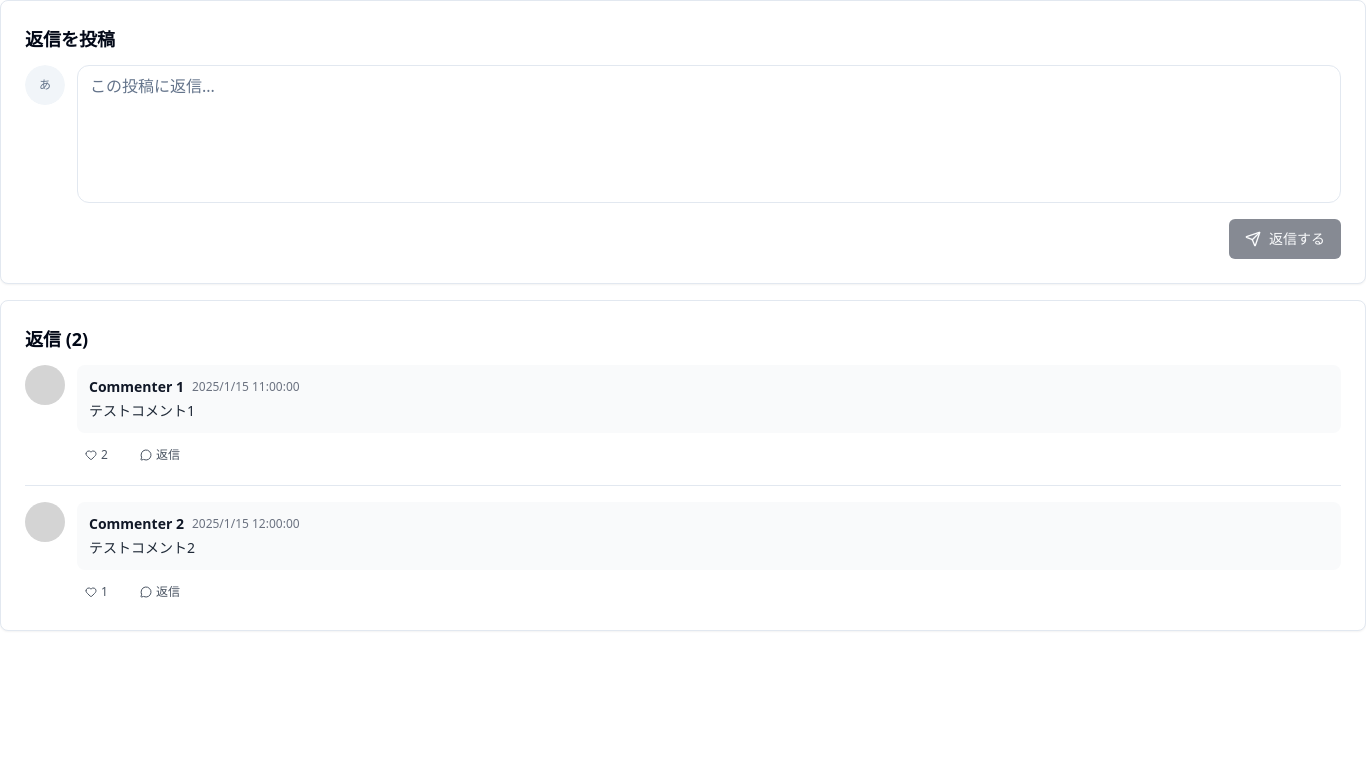
Test: ReplySection › shows optimistic update for new reply
Type "新しいコメント" into the text box with placeholder "この投稿に返信..." at {"x": 709, "y": 134}, box [77, 65, 1341, 203]
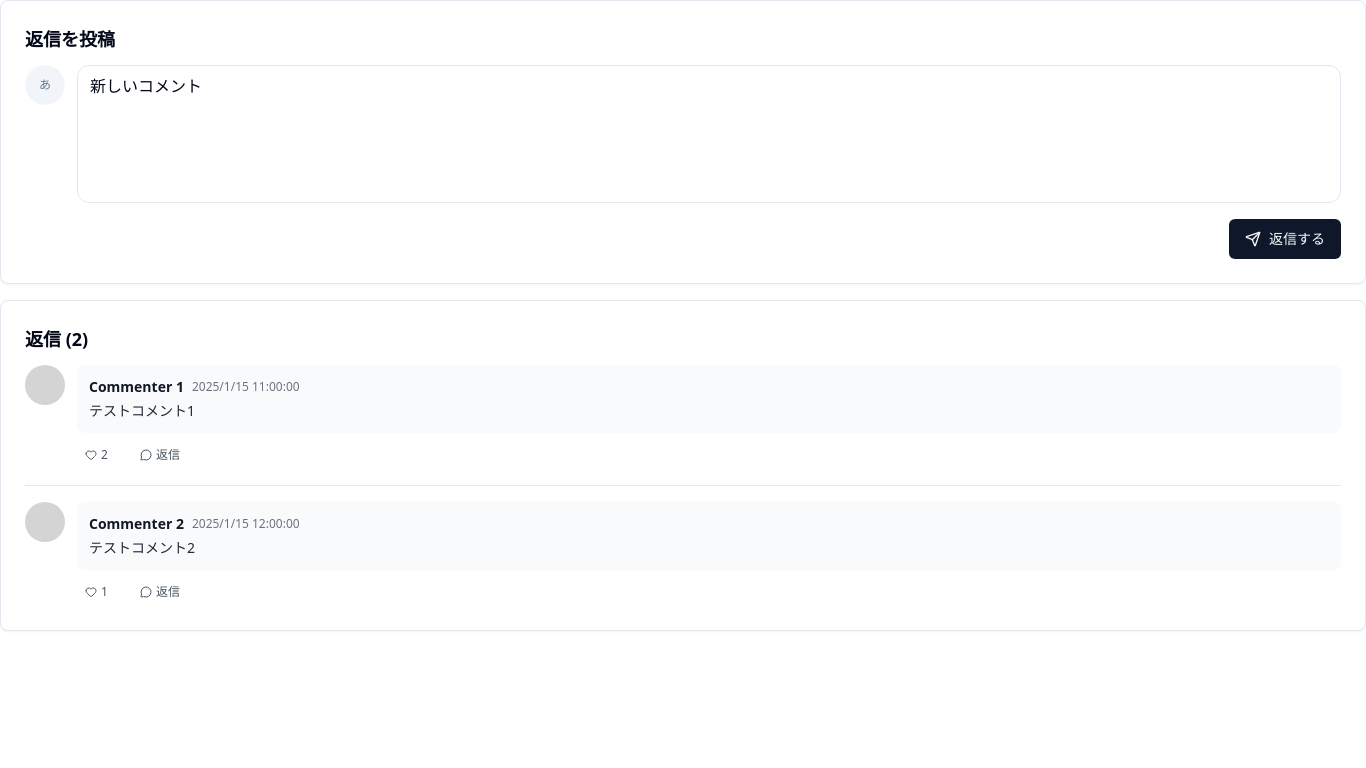
Click the button "返信する" at {"x": 1285, "y": 239}, box [1229, 219, 1341, 259]
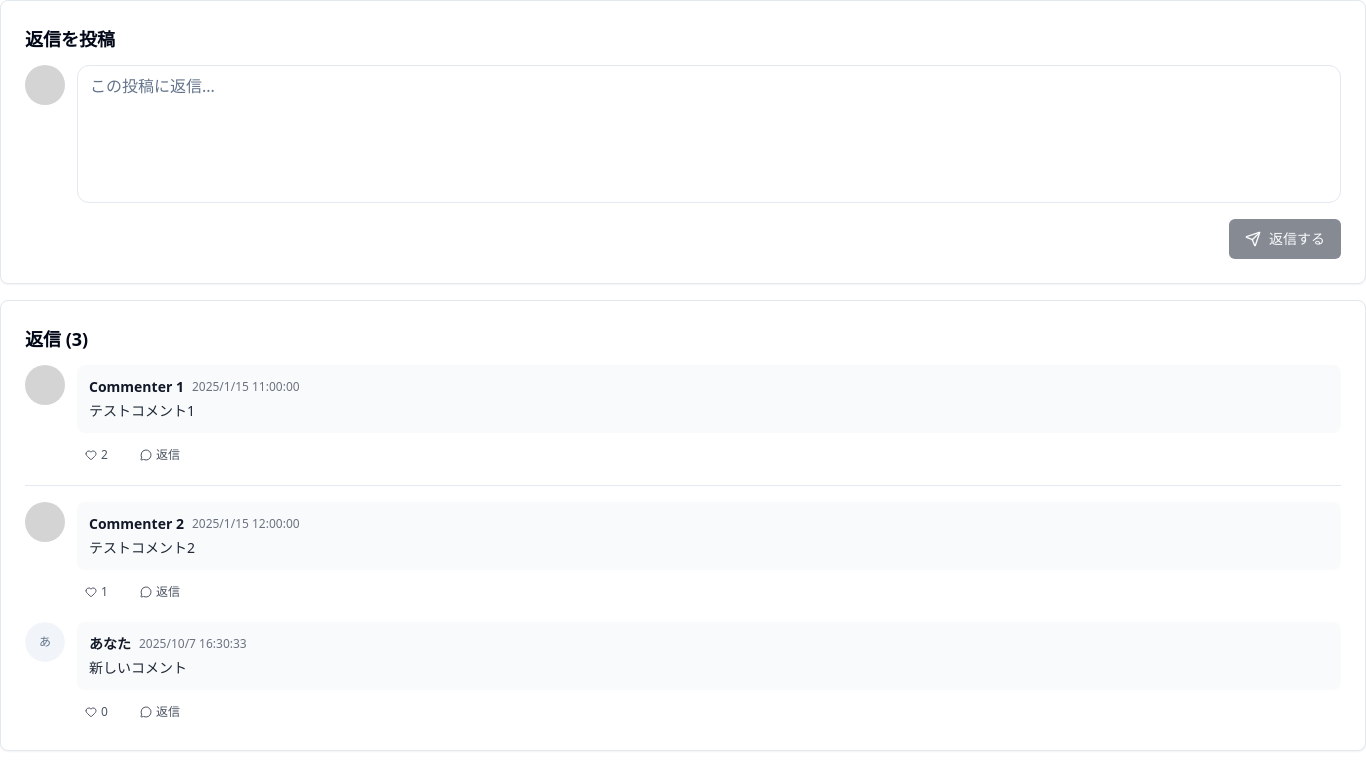
Now the text "新しいコメント" is shown, box [89, 658, 187, 677]
